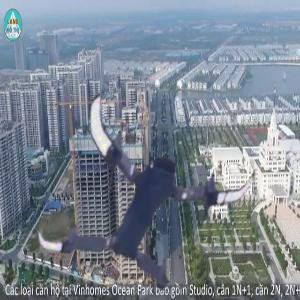drone: (48, 88, 254, 294)
